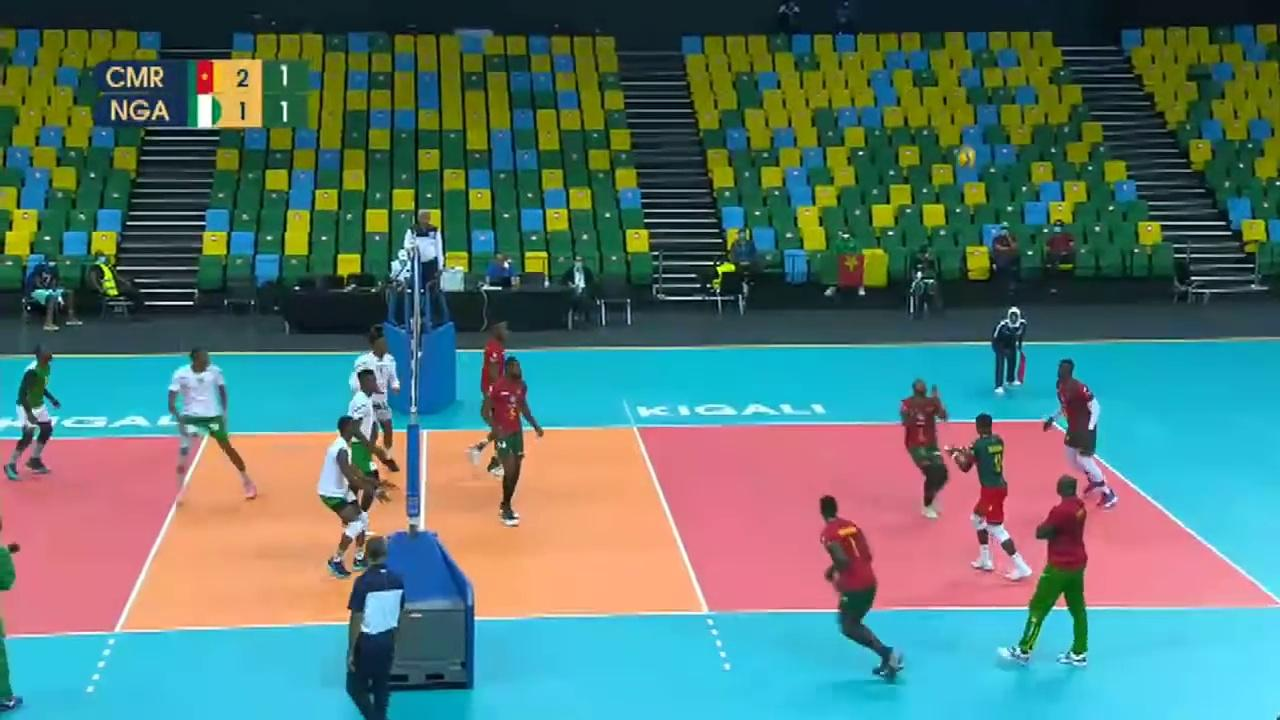player: (816, 492, 910, 686), (165, 349, 261, 506), (959, 412, 1023, 574), (1048, 364, 1115, 507), (320, 415, 375, 569), (339, 371, 391, 532), (5, 342, 65, 479), (491, 358, 537, 531), (349, 331, 401, 469), (900, 382, 951, 520), (474, 314, 515, 476)
refree: (326, 535, 414, 720), (401, 208, 448, 331), (990, 306, 1027, 395)
